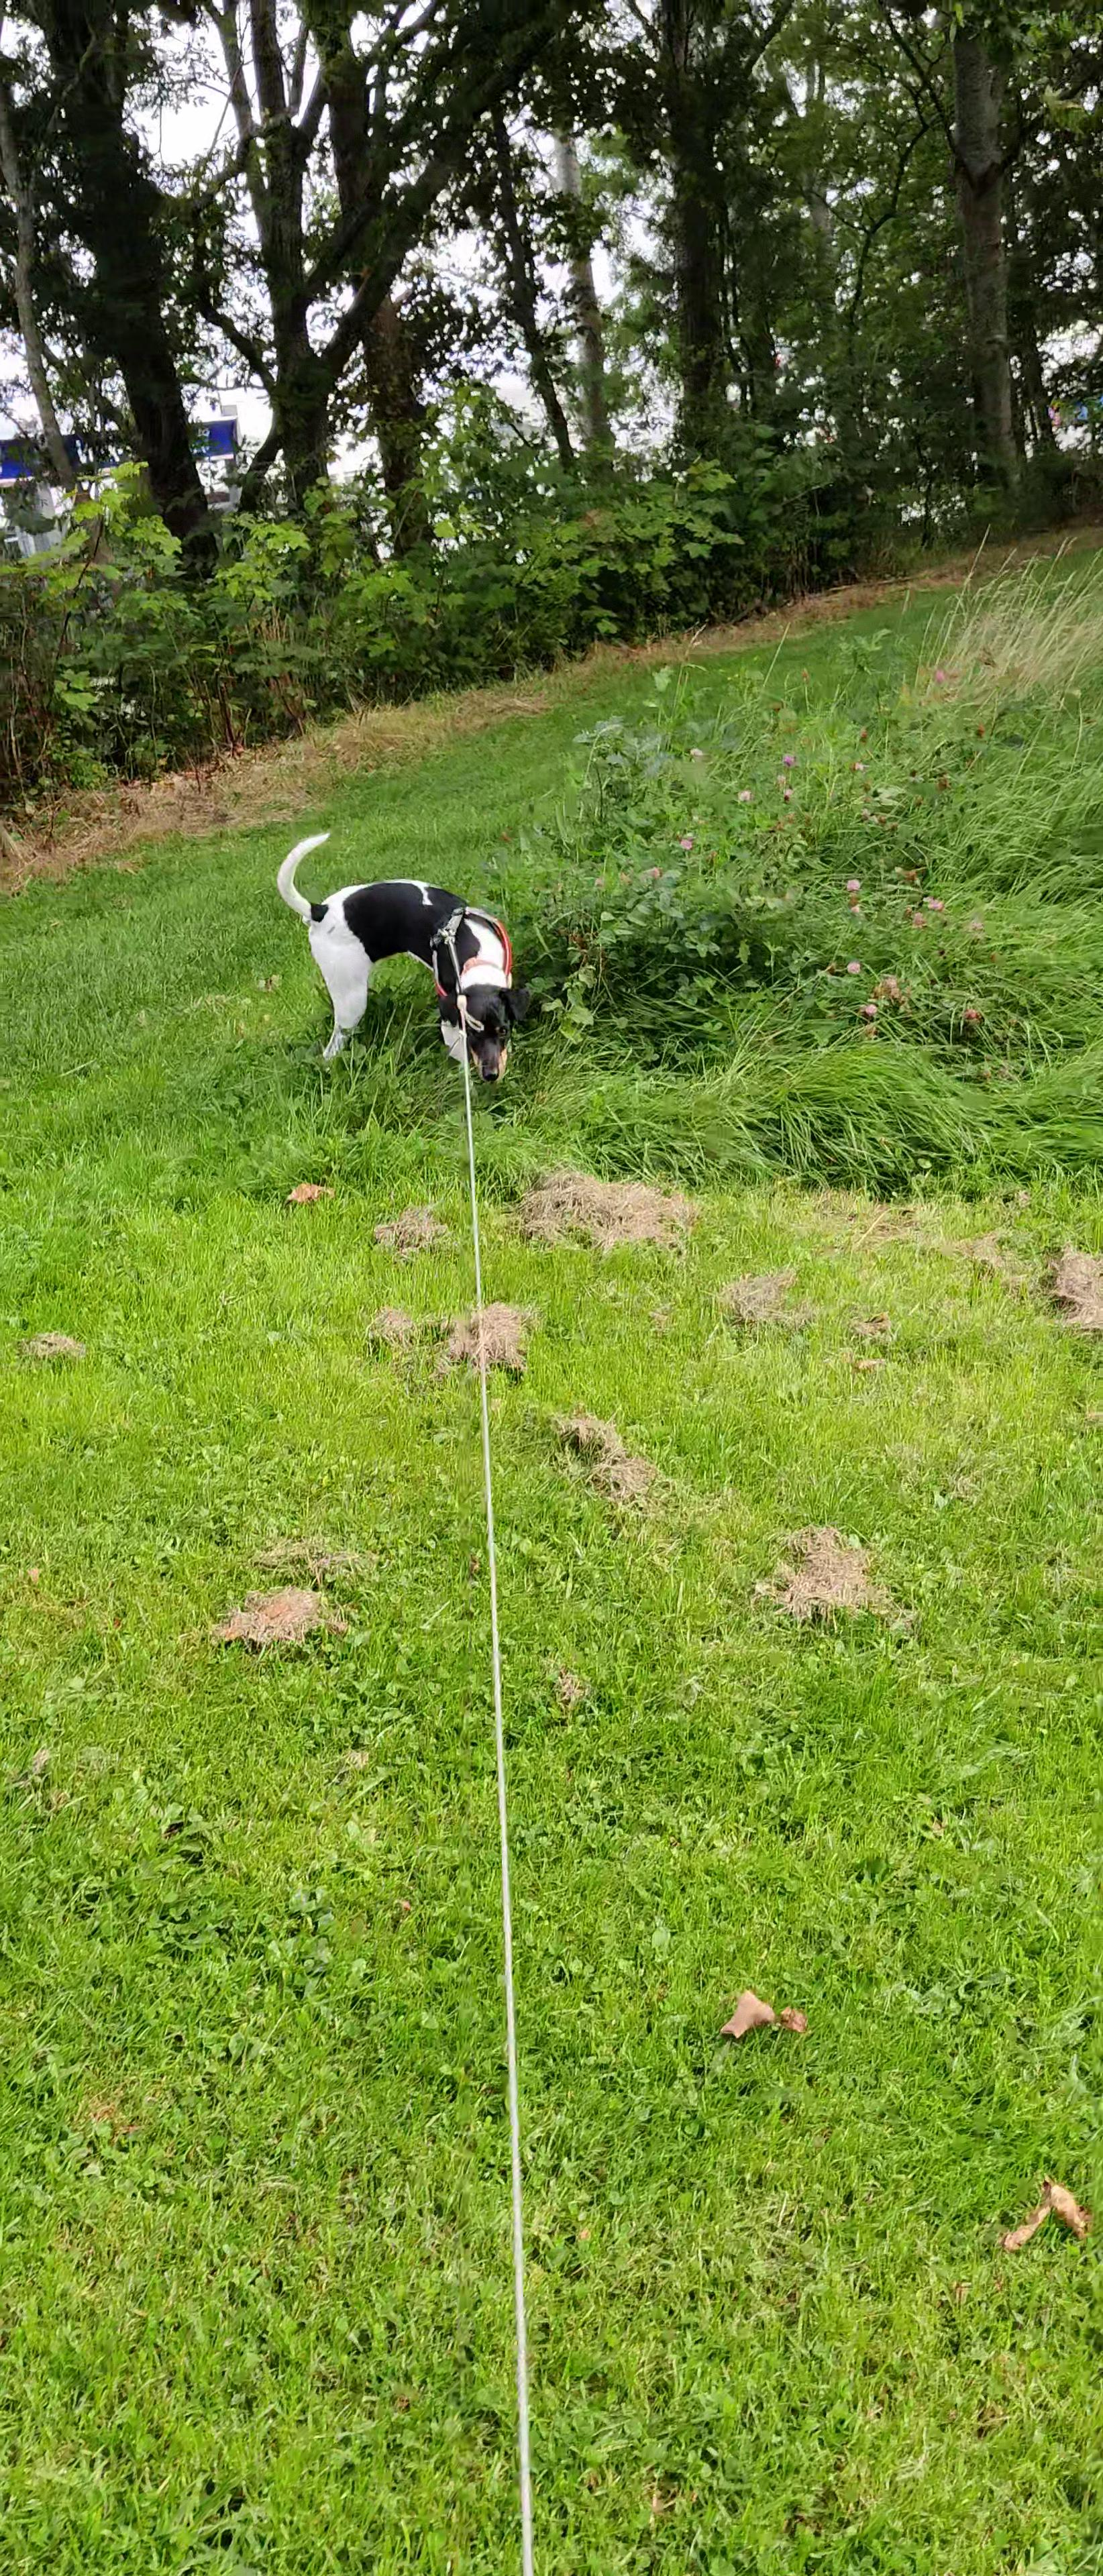Dog: (266, 816, 544, 1091)
